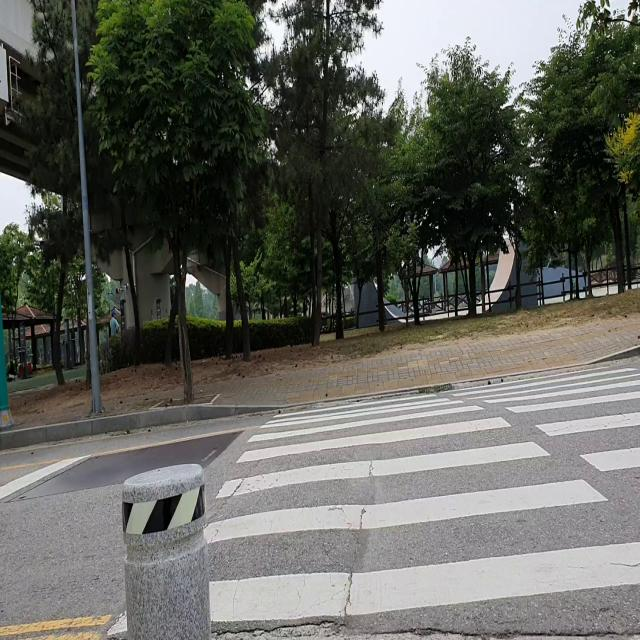횡단보도: (102, 364, 640, 639)
